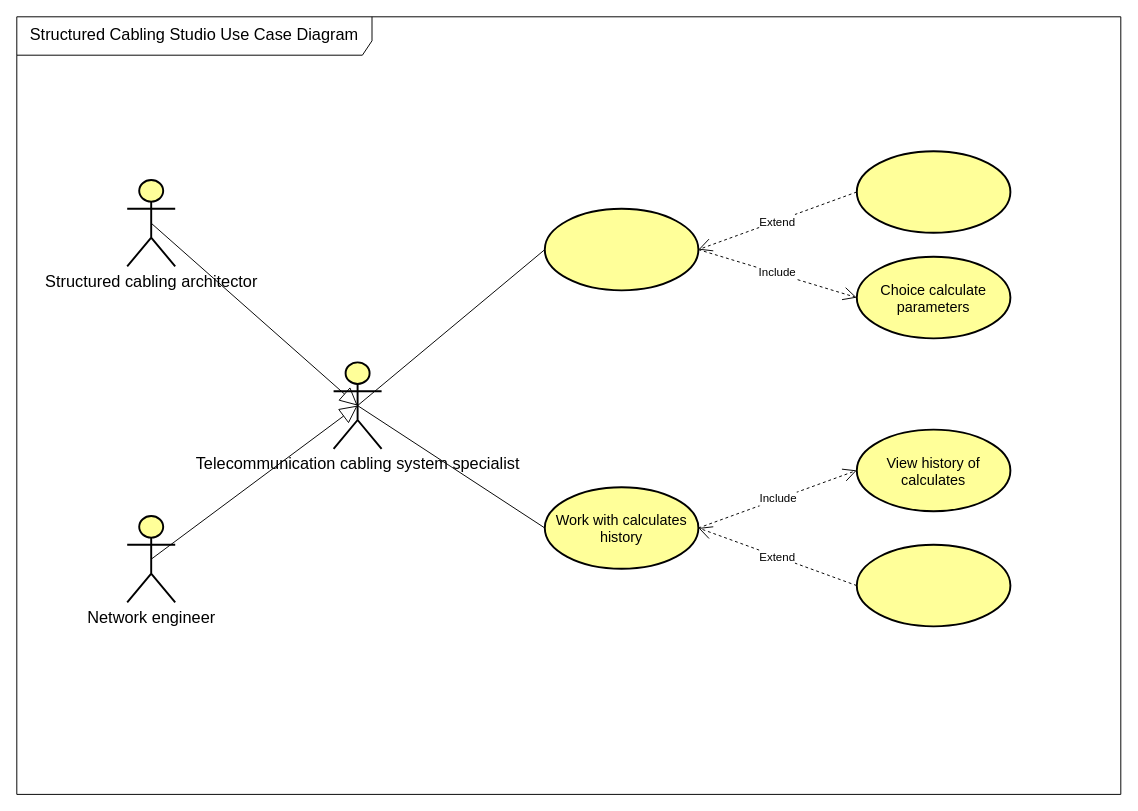
The diagram is 1138 pixels wide and 811 high, and some of its shapes have lost their labels. The centre of each missing label's shape, as x and y in pixels:
Calculate structured cabling configuration: [621,249]
Edit history of calculates: [933,585]
Obtain cable selection recommendations: [933,191]
